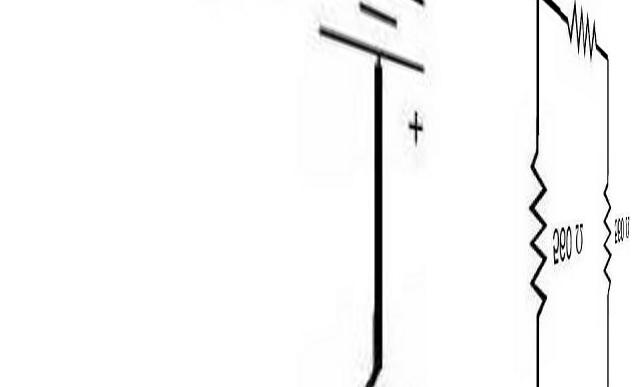resistor: (519, 135, 555, 328), (553, 12, 611, 65)
